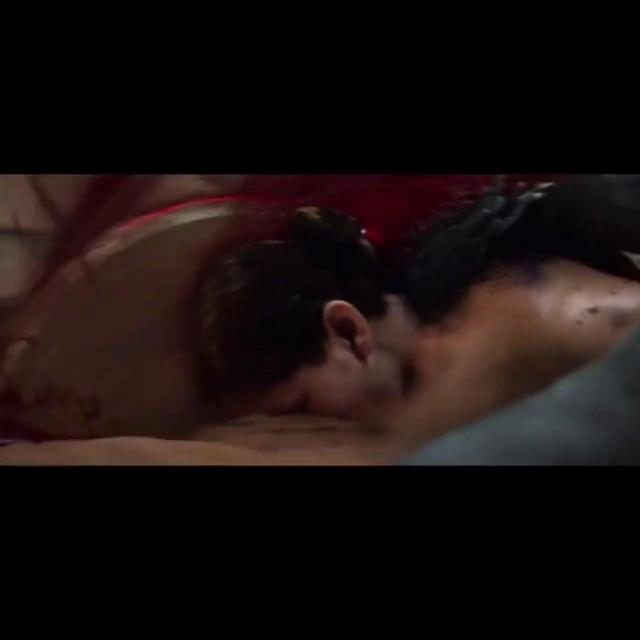blood: (0, 174, 570, 441), (574, 306, 612, 337)
